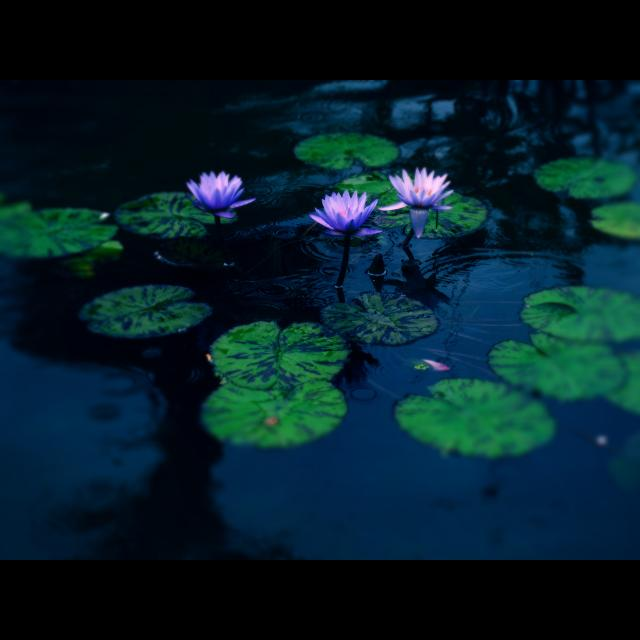Flower: (380, 165, 450, 233), (180, 164, 248, 228), (314, 179, 386, 225)
